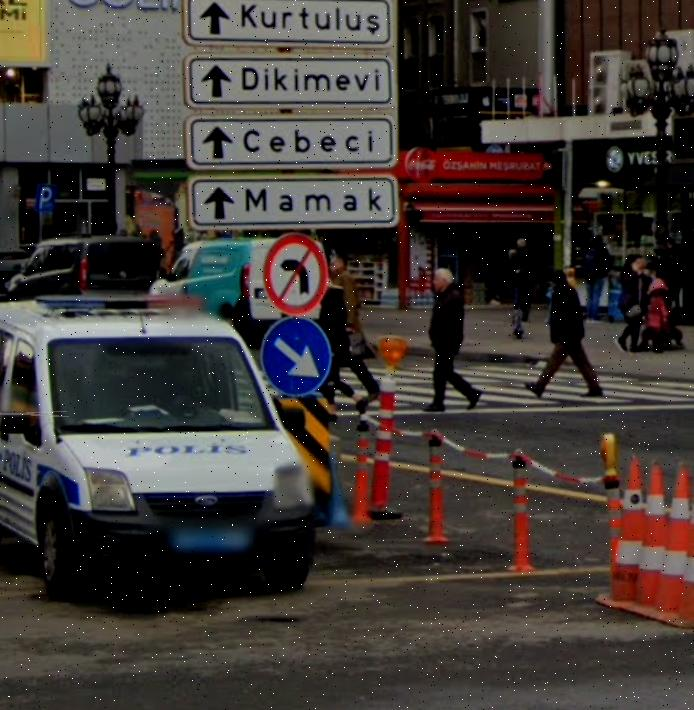leftturnsareforbidden: (267, 234, 327, 317)
